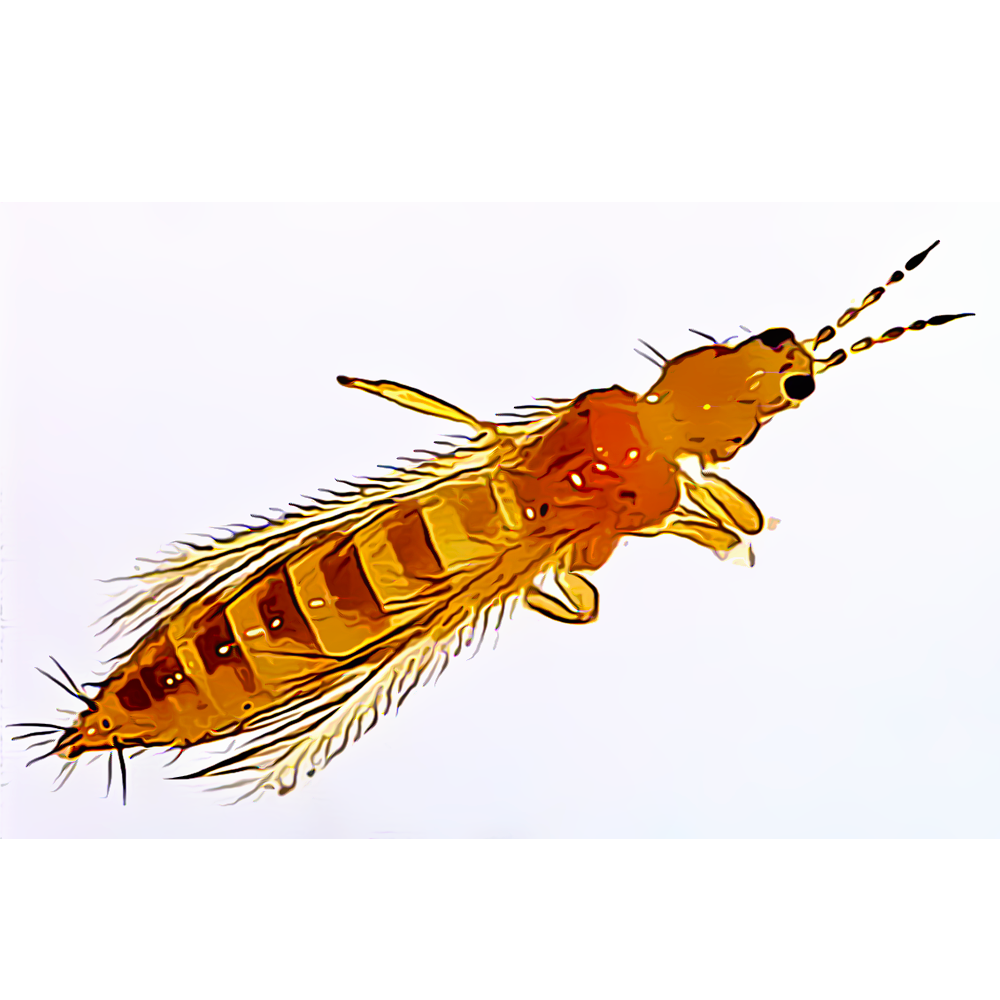Thrips: (12, 206, 973, 803)
